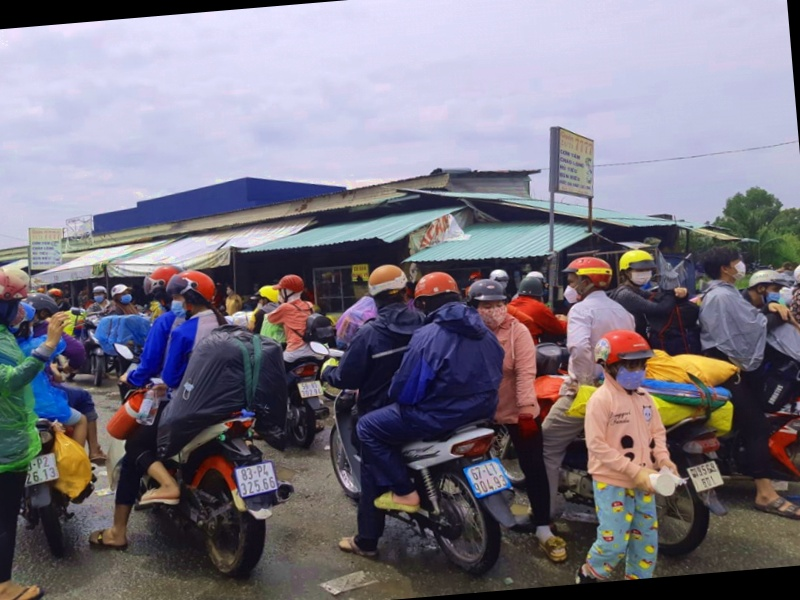Bien-so: (466, 466, 515, 508), (238, 438, 281, 477), (686, 503, 728, 538), (31, 400, 66, 433), (312, 364, 343, 385)
